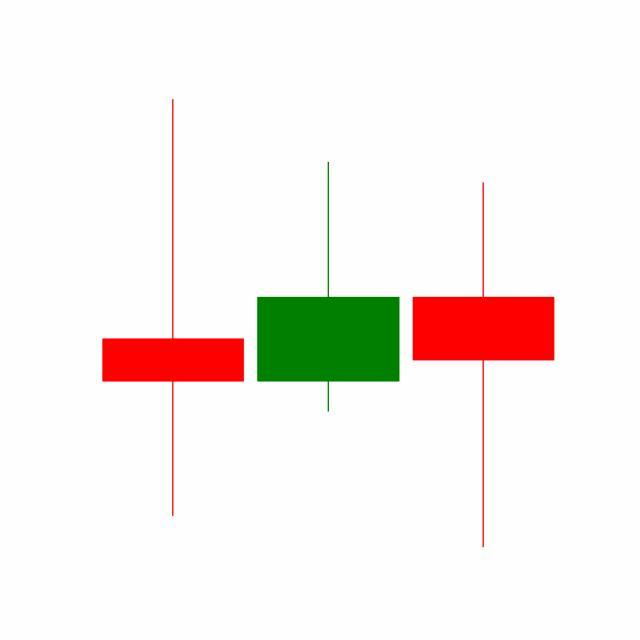Spinning Top: (406, 179, 562, 552)
